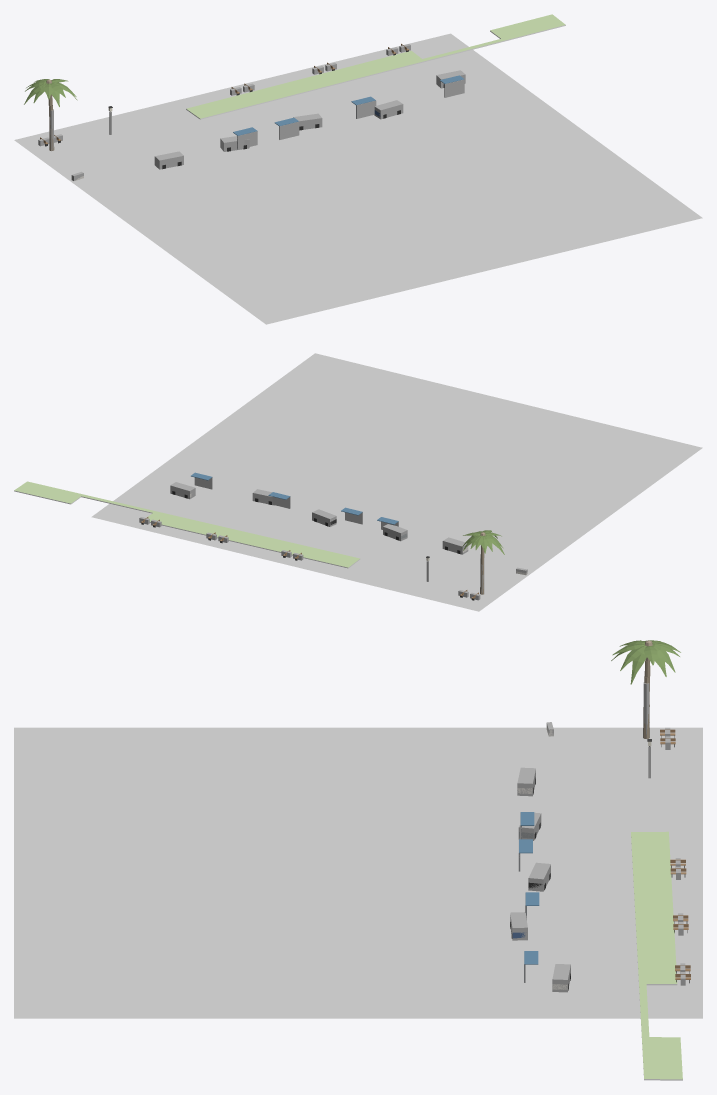
File: chunk_03_01.glb
The picture shows the model from 3 angles, top to bottom: view 1: azimuth 30°, elevation 25°; view 2: azimuth 150°, elevation 25°; view 3: azimuth 270°, elevation 25°; orthographic projection. The views are drawn at different scales.
Parts seen in each view (by area): view 1: chunk_03_01_LOD0, chunk_03_01_COL; view 2: chunk_03_01_LOD0, chunk_03_01_COL; view 3: chunk_03_01_LOD0, chunk_03_01_COL.
Part boxes in pixels (left/top/right/bottom): chunk_03_01_LOD0: left=14, top=14, right=702, bottom=324; chunk_03_01_COL: left=38, top=44, right=465, bottom=180; chunk_03_01_LOD0: left=14, top=353, right=702, bottom=611; chunk_03_01_COL: left=139, top=477, right=527, bottom=600; chunk_03_01_LOD0: left=14, top=640, right=702, bottom=1080; chunk_03_01_COL: left=510, top=682, right=685, bottom=992.
Size of what is drawn, in the model's own units: 99.02 by 12.46 by 80.
